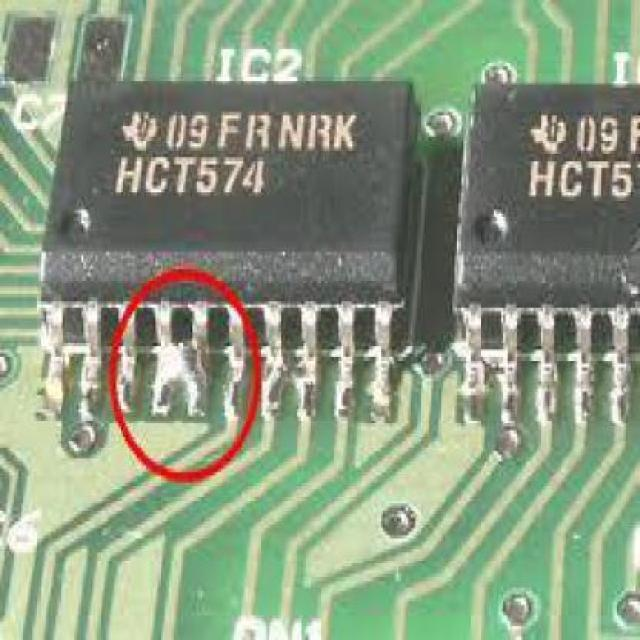Soldering shorted: (149, 325, 202, 413)
